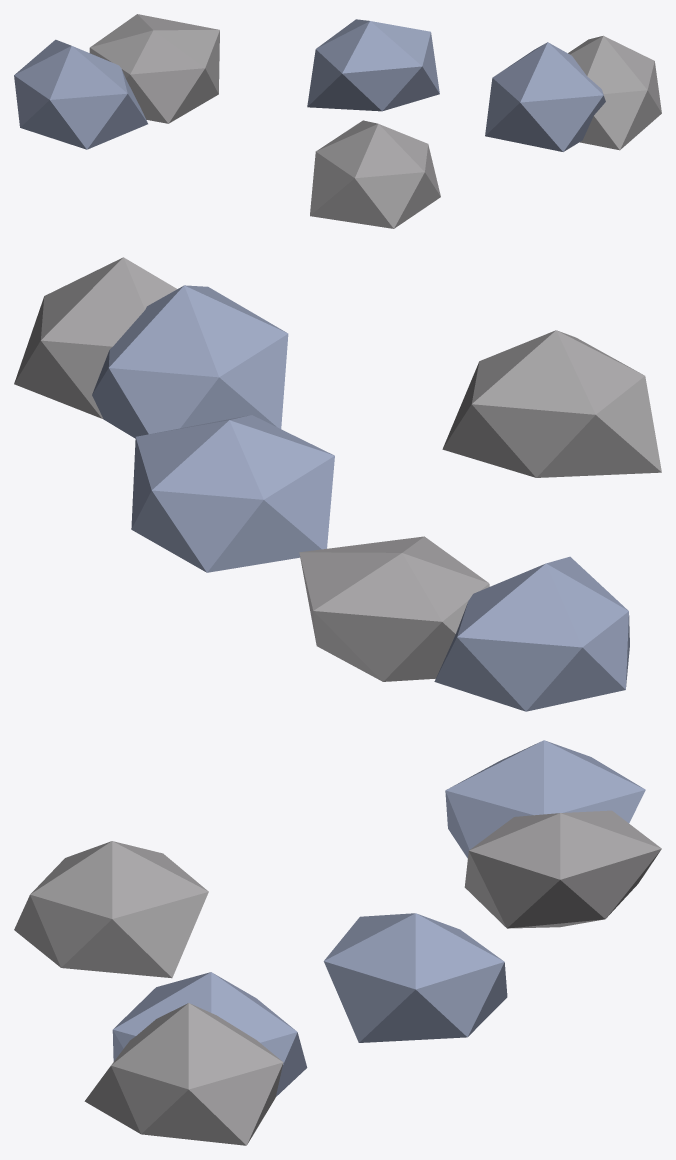
File: jazida_silex_sem_textura.glb
3 renders of one model, top to bottom at view 1: azimuth 30°, elevation 25°; view 2: azimuth 150°, elevation 25°; view 3: azimuth 270°, elevation 25°, orthographic. The views are drawn at different scales.
Parts seen in each view (by area): view 1: jazida_silex; view 2: jazida_silex; view 3: jazida_silex.
Part boxes in pixels (x1,y1,x2,y2): jazida_silex: (14,14,661,228); jazida_silex: (14,257,661,711); jazida_silex: (14,740,661,1145).
Size of the model in its own units: 0.6234 by 0.1166 by 0.5014.
